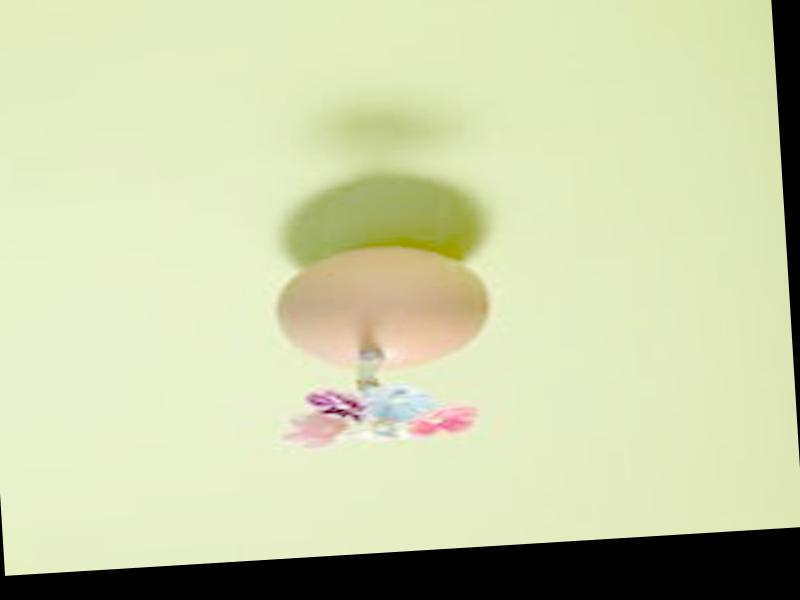Eggs: (273, 240, 490, 374)
